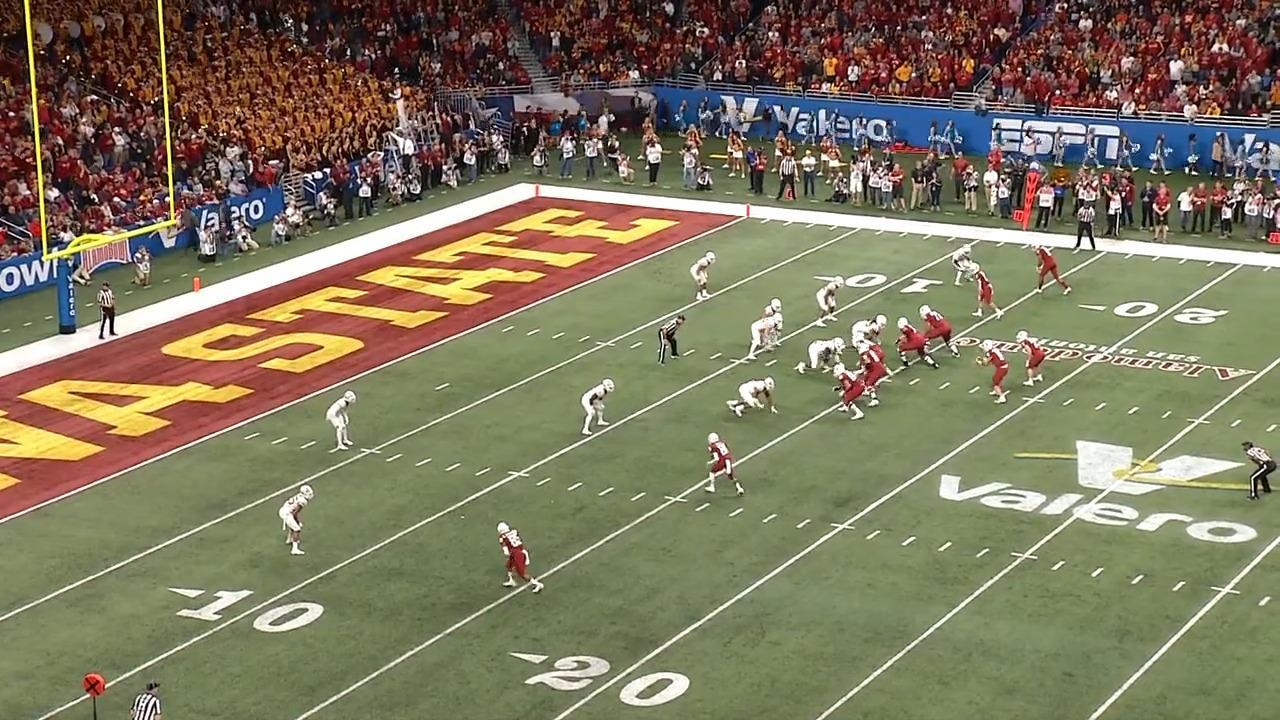defense: (280, 482, 315, 558), (577, 376, 615, 437), (329, 386, 361, 453), (730, 377, 779, 420), (748, 310, 788, 362), (796, 339, 847, 378), (816, 278, 846, 331), (692, 251, 720, 307), (848, 314, 886, 351), (950, 245, 978, 292), (764, 297, 787, 348)
oline: (894, 315, 939, 375), (925, 304, 968, 359), (832, 364, 871, 421), (855, 338, 888, 405), (851, 331, 894, 377)
qb: (980, 340, 1011, 404)
ref: (1242, 438, 1279, 505), (93, 282, 121, 348), (127, 679, 171, 720), (661, 311, 689, 368), (1072, 199, 1096, 255)
skill: (493, 519, 543, 596), (702, 430, 746, 499), (1032, 245, 1073, 299), (1017, 330, 1050, 390), (973, 263, 1005, 321)
